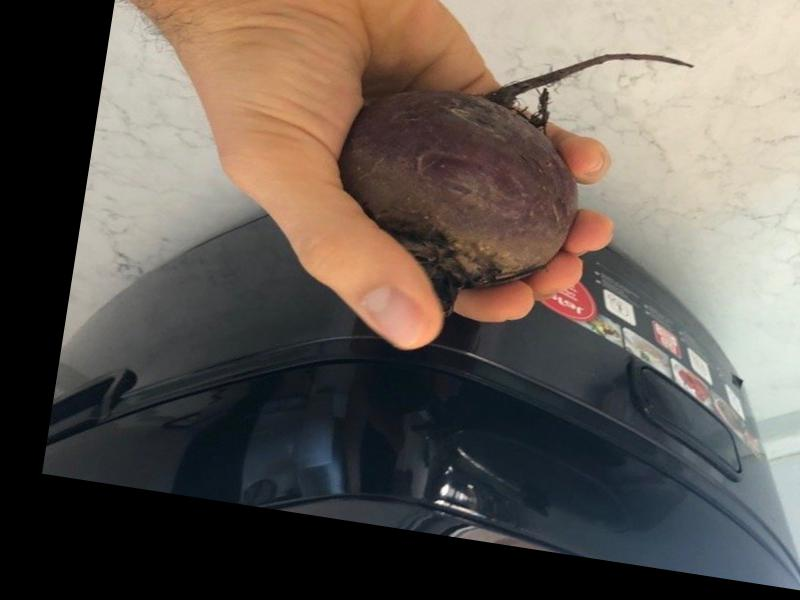Beet: (320, 10, 694, 343)
